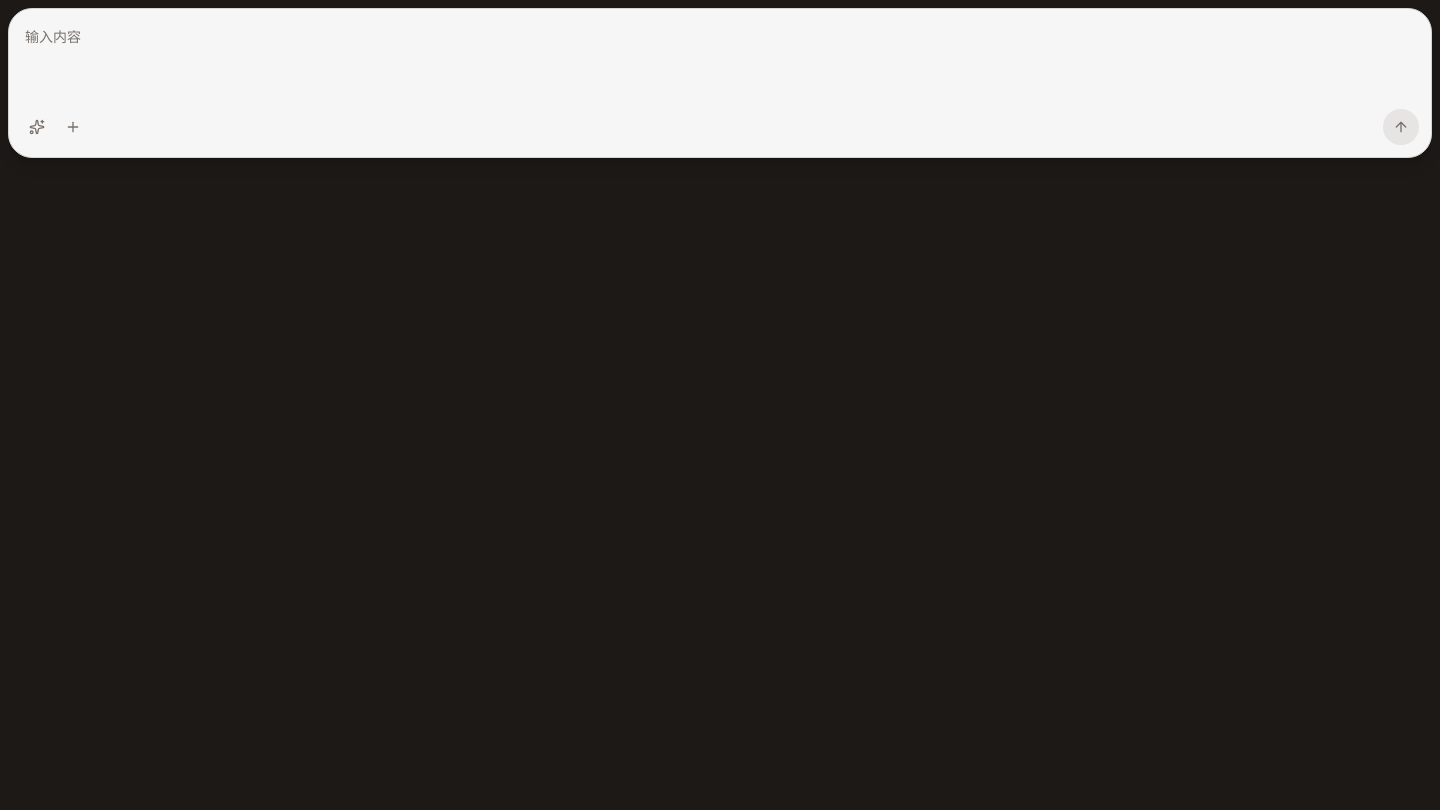
AgentChatComposer attachment and Skill actions › shows a Skill icon and opens the same candidate menu as slash
The width and height of the screenshot is (1440, 810).
Click the button named "选择 Skill" at (37, 127), box [21,111,53,143]
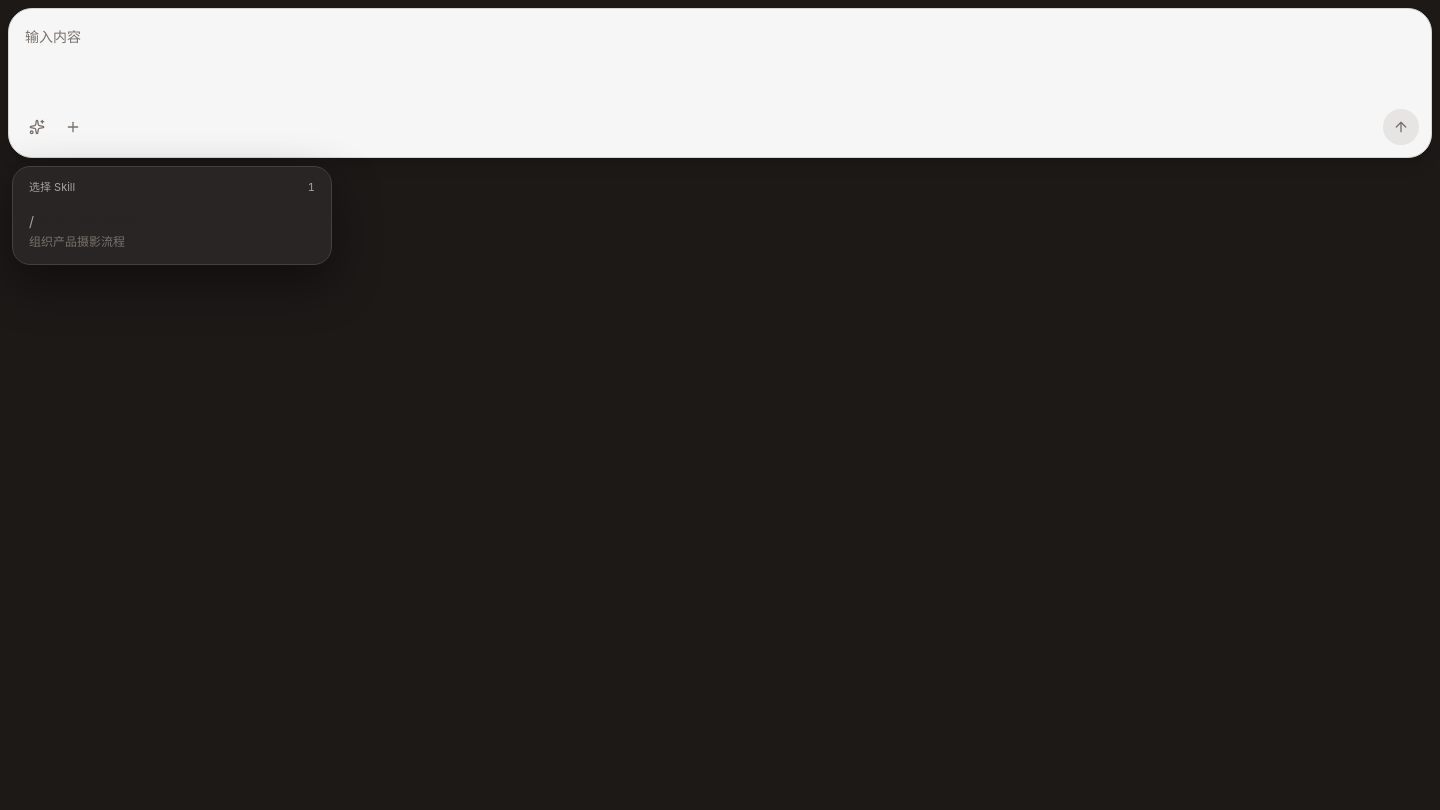
Expected: the text "选择 Skill" is shown, [29,179,75,196]
Expected: the option "/ photo-workflow 组织产品摄影流程" is shown, [21,206,323,256]
